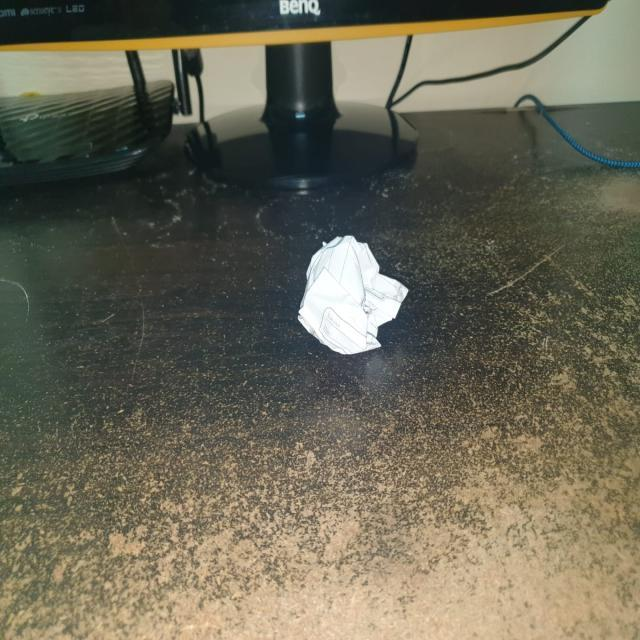Paper: (297, 238, 411, 353)
